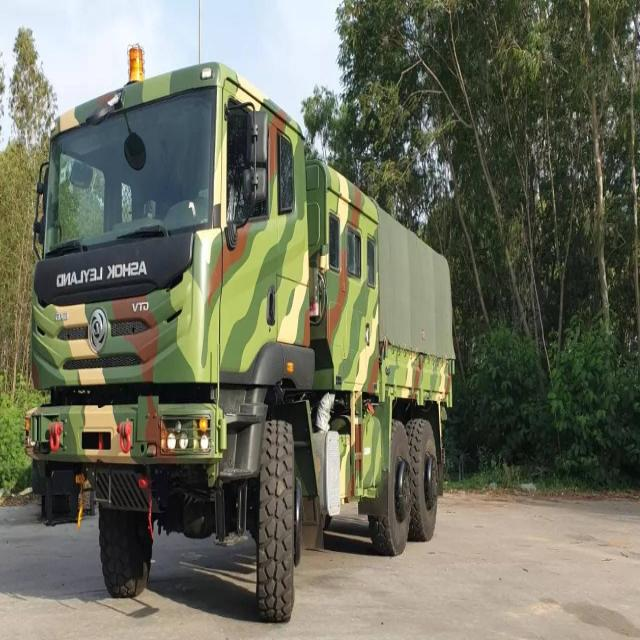truck: (25, 64, 455, 621)
